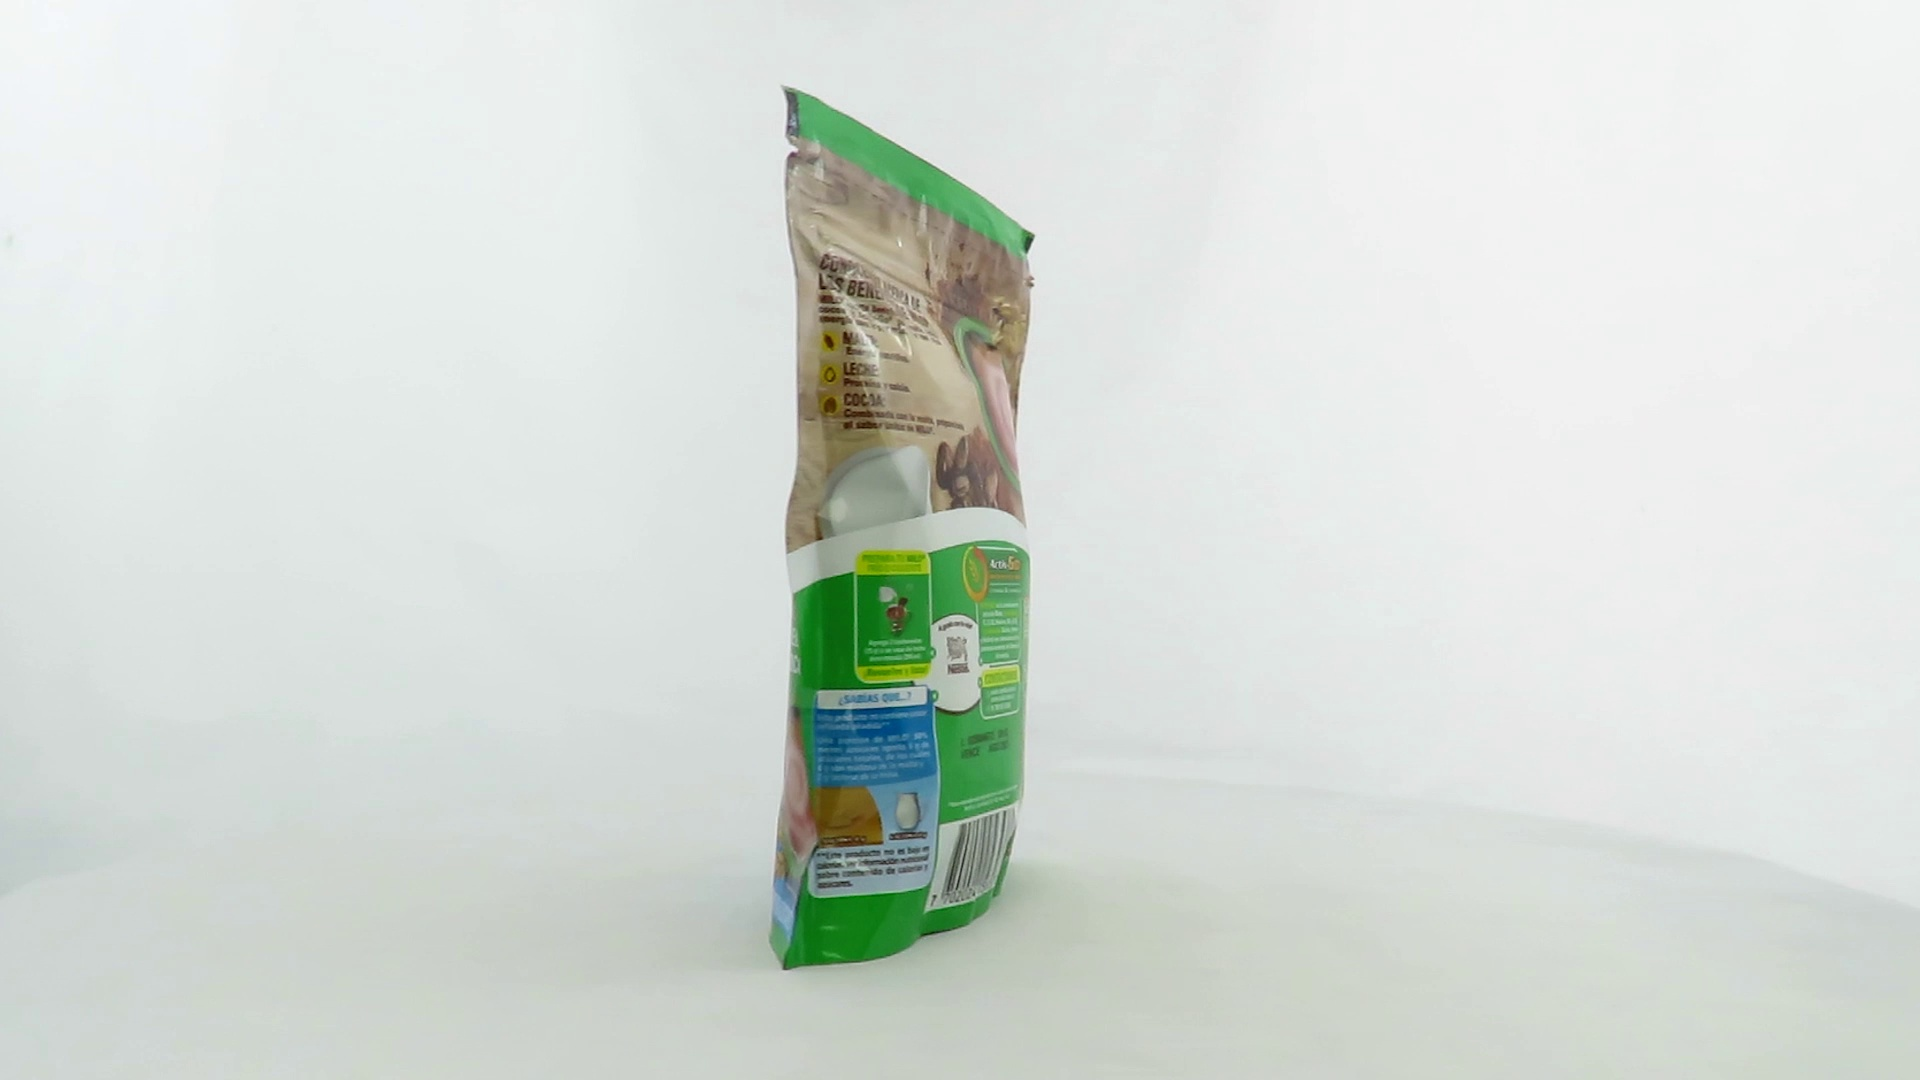COL0170205DYP20000: (767, 535, 1036, 977)
